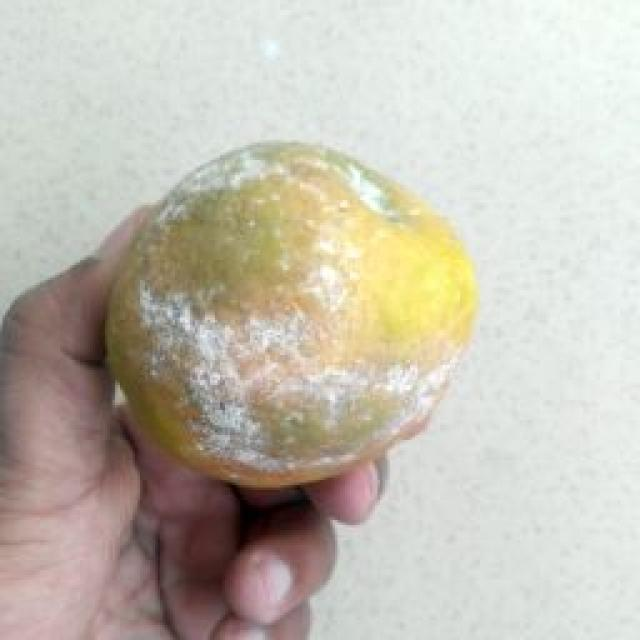Bad_Orange: (106, 142, 478, 488)
